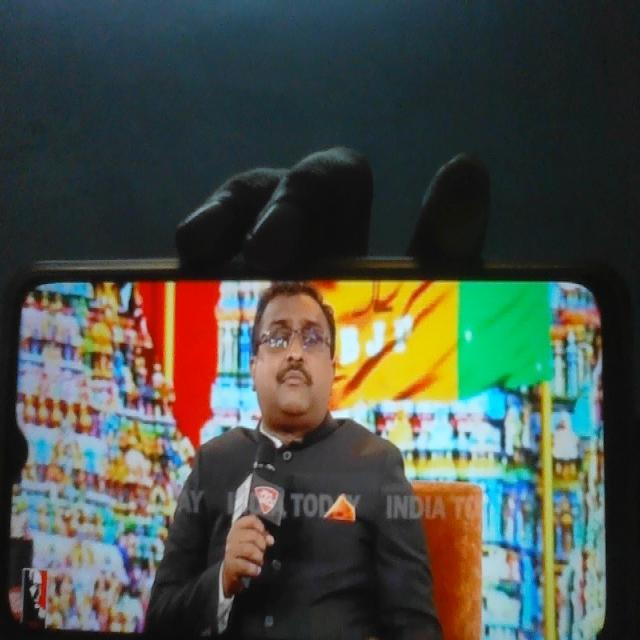fake: (245, 249, 347, 442)
